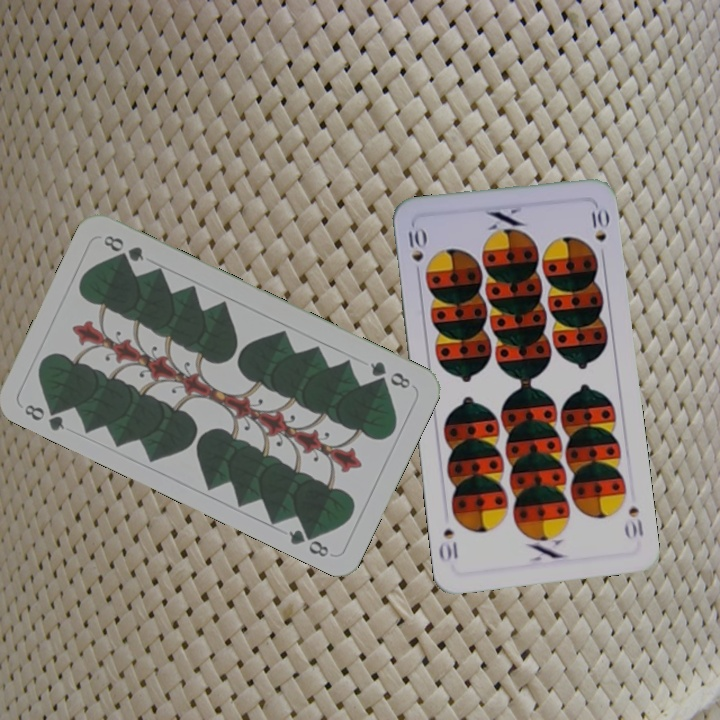G8: (366, 357, 413, 392), (20, 400, 67, 434)
S10: (404, 224, 428, 281), (621, 502, 646, 542)
